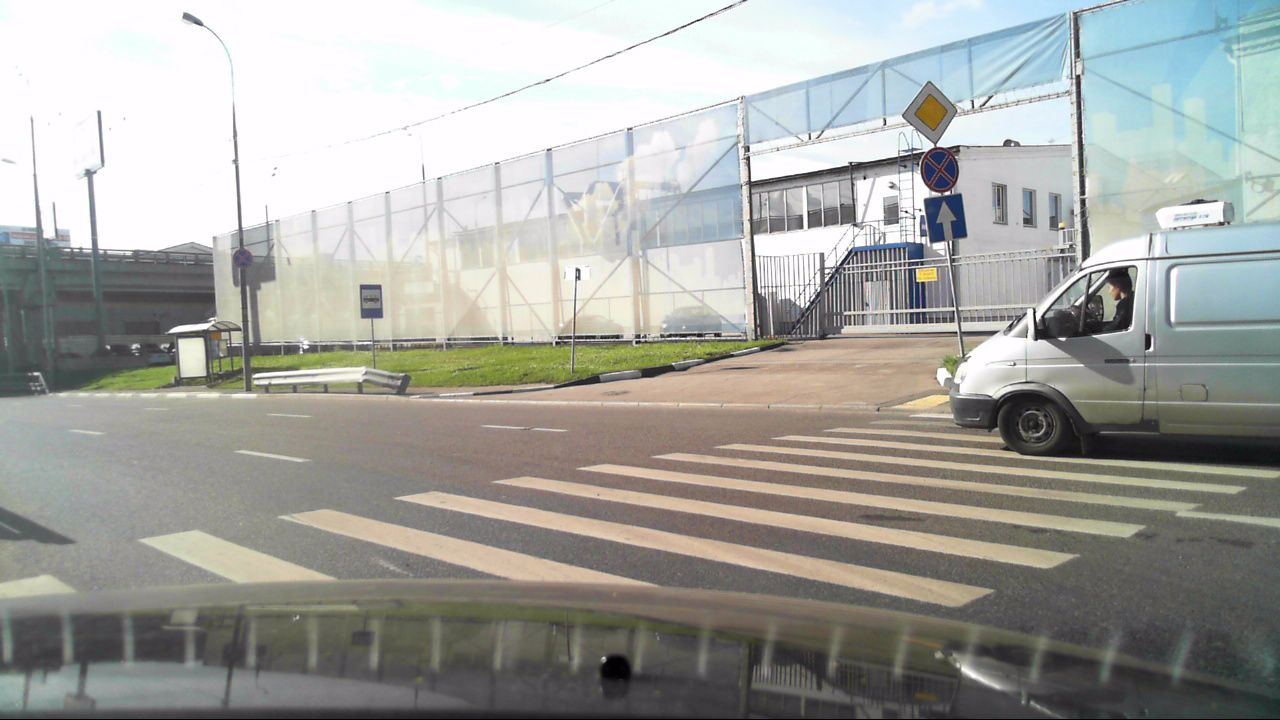No Parking: (917, 143, 960, 195)
